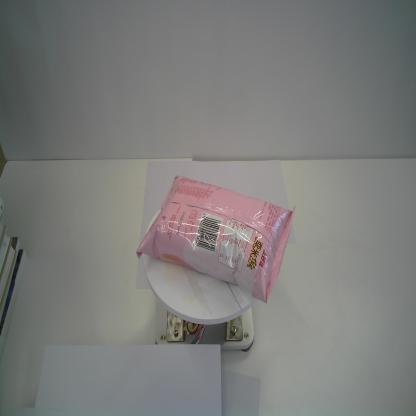Puffed Food: (129, 174, 294, 303)
